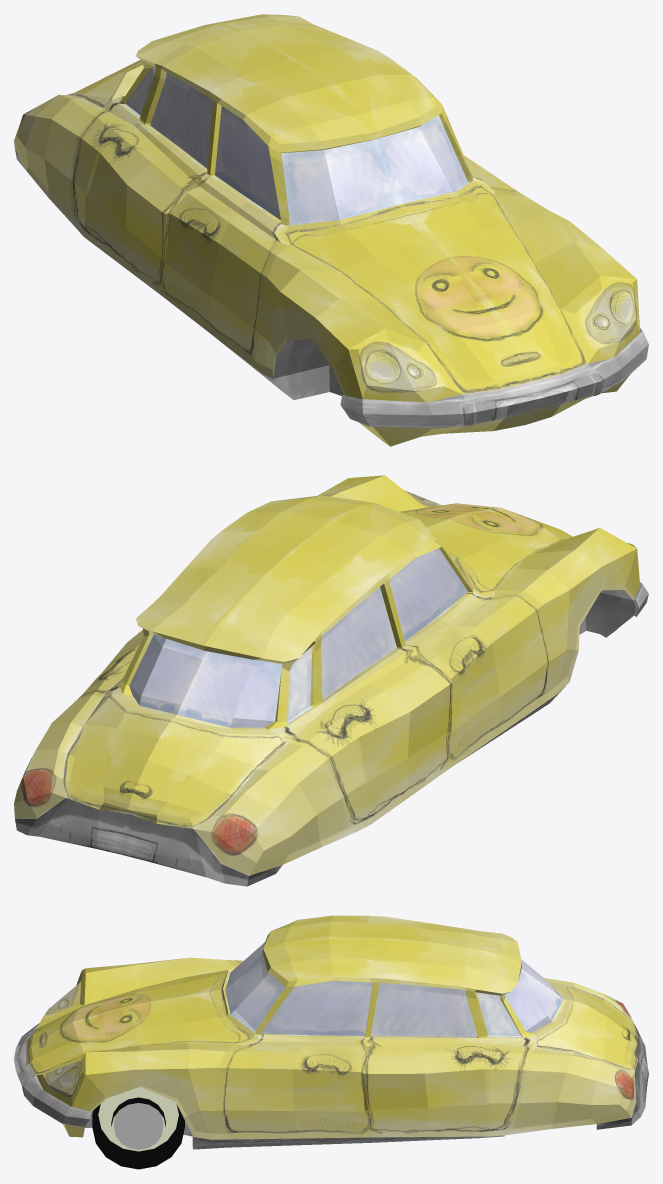
The model's file is car2.dae.
The picture shows the model from 3 angles, top to bottom: view 1: azimuth 30°, elevation 25°; view 2: azimuth 150°, elevation 25°; view 3: azimuth 270°, elevation 25°; orthographic projection. The views are drawn at different scales.
Visible parts, largest first — view 1: body-0; view 2: body-0; view 3: body-0, wheel-0.
Part boxes in pixels (left/top/right/bottom): body-0: left=14, top=14, right=648, bottom=446; body-0: left=14, top=475, right=648, bottom=886; body-0: left=14, top=915, right=648, bottom=1149; wheel-0: left=92, top=1087, right=184, bottom=1169.
Bounding box in the file's own units: 0.868 × 0.6729 × 2.09.
